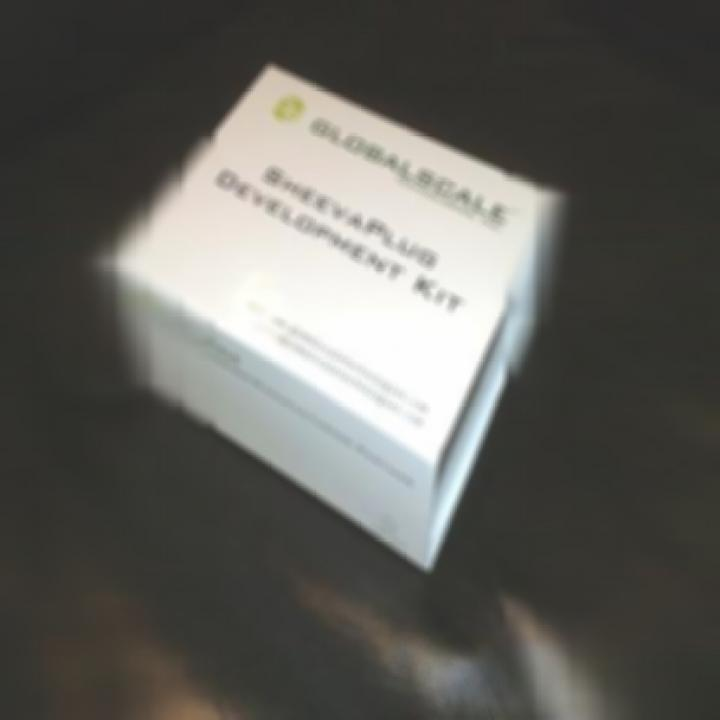box: (108, 71, 562, 562)
